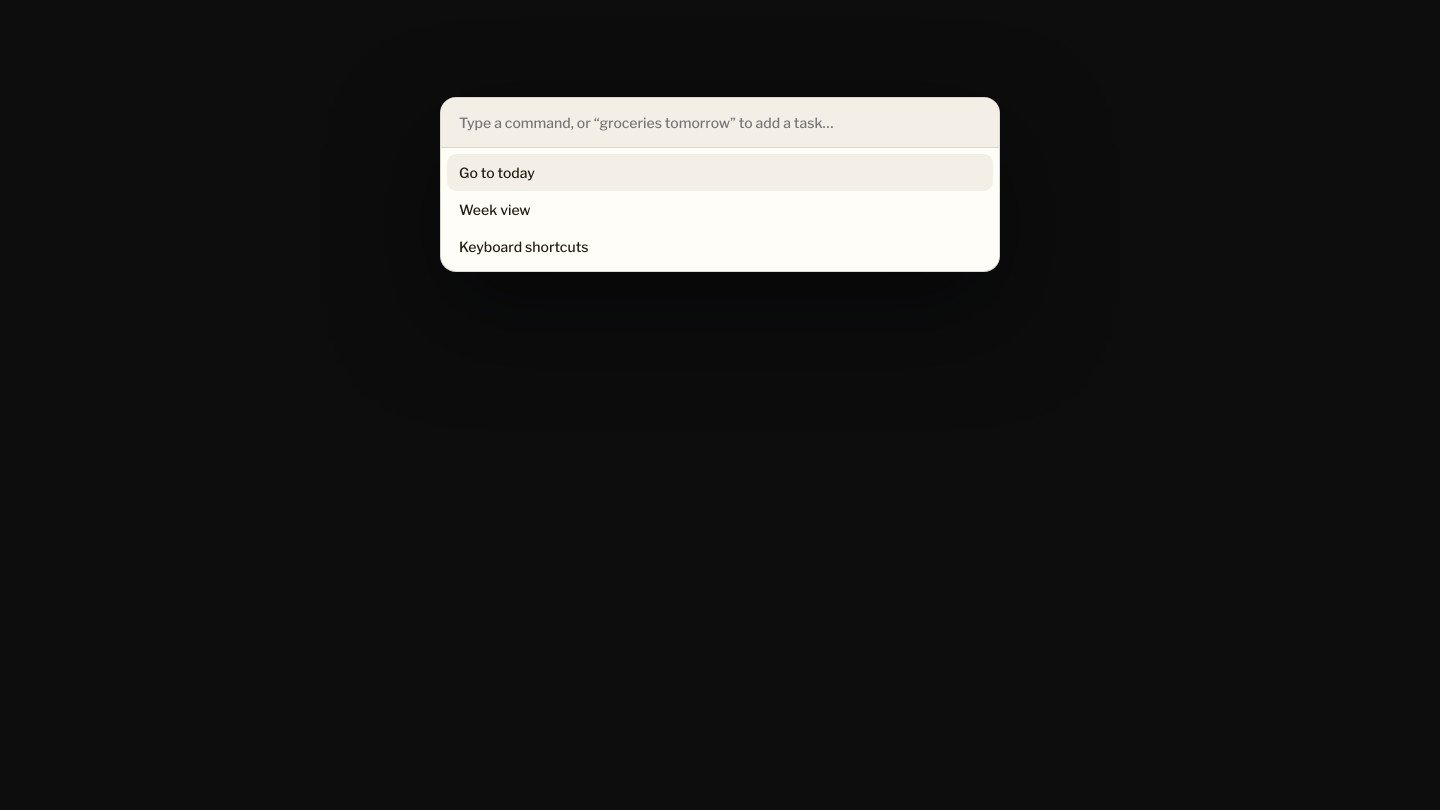
Test: no "Add task" row when quick-add is unavailable
The image size is (1440, 810).
In the dropdown named "Type a command, or a task to add": (720, 123) [441,98,999,147], type "week"
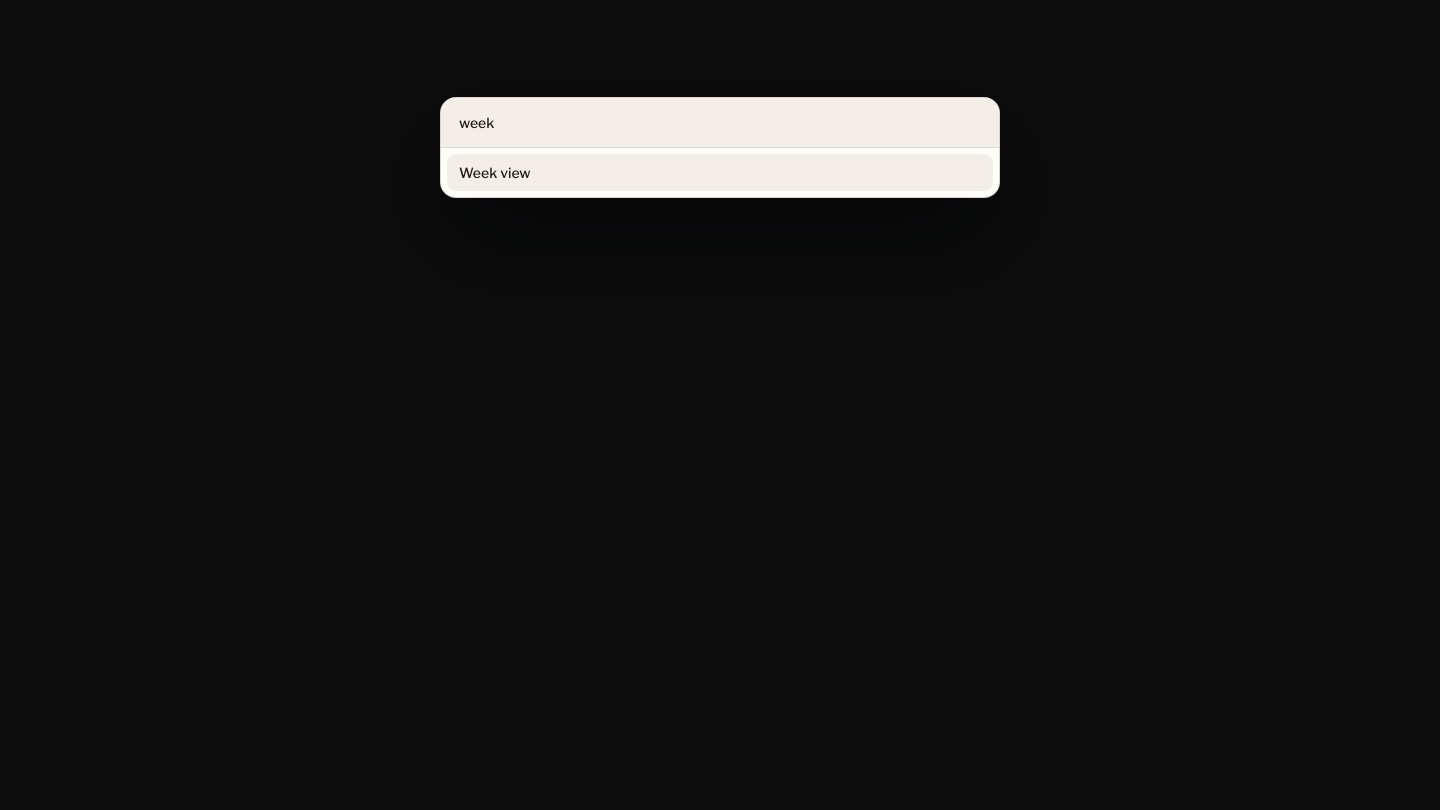
Now the options read "Week view", in this order, box [447,154,993,191]
